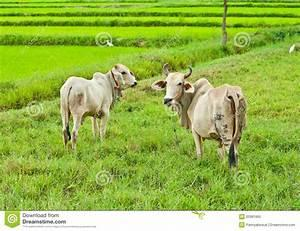cow: (150, 62, 247, 170), (59, 63, 137, 152)
